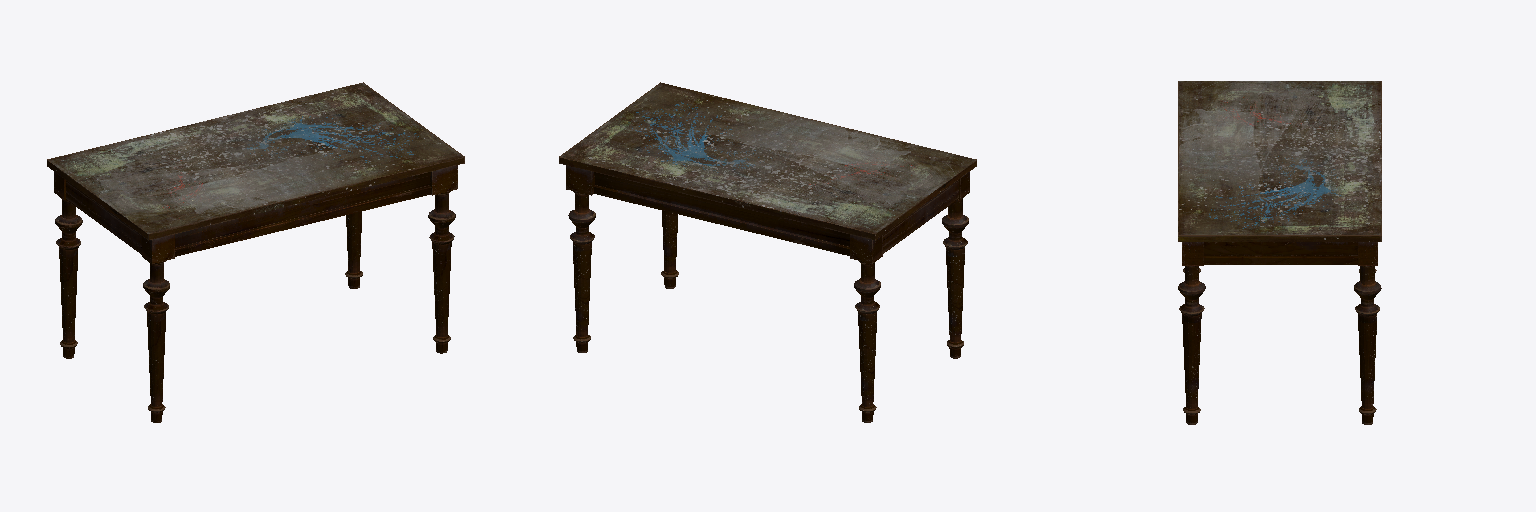
3 views of the same model, side by side, from view 1: azimuth 30°, elevation 25°; view 2: azimuth 150°, elevation 25°; view 3: azimuth 270°, elevation 25° (orthographic).
Parts seen in each view (by area): view 1: o_table_old_01_a; view 2: o_table_old_01_a; view 3: o_table_old_01_a.
Part boxes in pixels (x1,y1,x2,y2): o_table_old_01_a: (47, 82, 464, 422); o_table_old_01_a: (559, 82, 976, 422); o_table_old_01_a: (1178, 81, 1381, 424).
Bounding box in the file's own units: 131 × 77.01 × 72.97.
Materials: 1 (1 with a texture image).